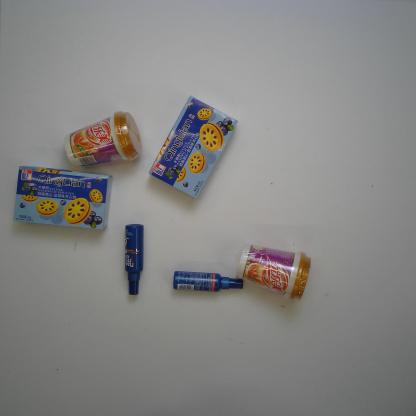Dessert: (148, 95, 238, 199), (12, 165, 113, 230)
Instant Drink: (64, 110, 142, 168), (236, 244, 312, 301)
Personal Hygiene: (172, 271, 244, 292), (125, 223, 144, 296)
